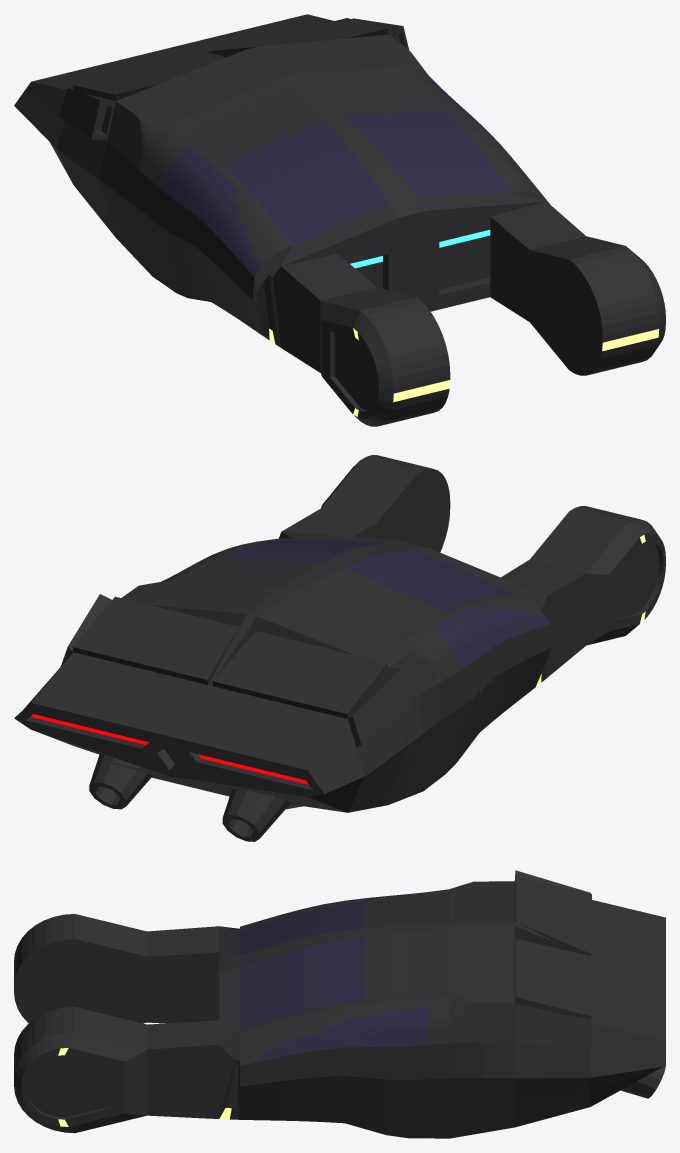
Rendered from GhoslingCar.glb.
3 views of the same model, one above another, from view 1: azimuth 30°, elevation 25°; view 2: azimuth 150°, elevation 25°; view 3: azimuth 270°, elevation 25° (orthographic). The views are drawn at different scales.
Parts seen in each view (by area): view 1: Cube; view 2: Cube; view 3: Cube.
Part boxes in pixels (x1,y1,x2,y2): Cube: (14,14,665,426); Cube: (14,455,665,841); Cube: (14,870,665,1138).
Size of the model in its own units: 2.32 by 1.17 by 4.48.
